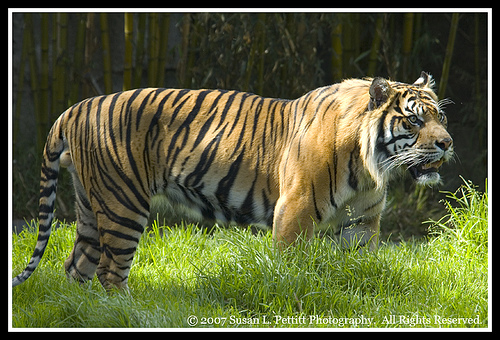Tigre: (41, 64, 465, 277)
